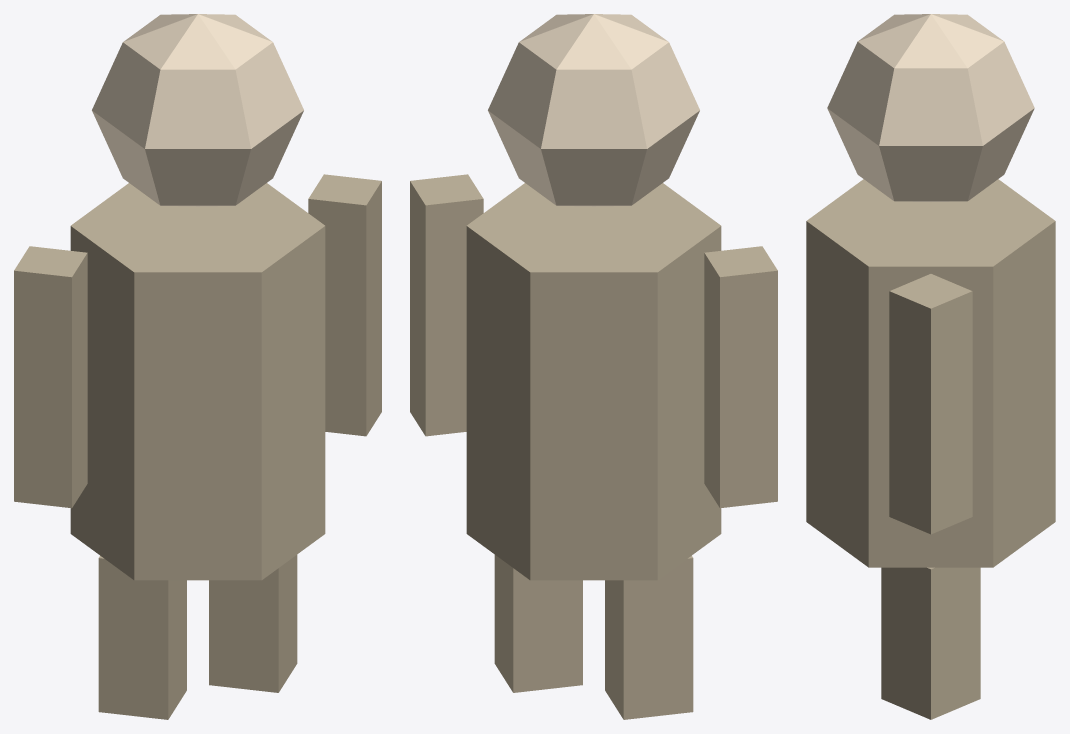
The model's file is fletcher.glb.
3 views of the same model, side by side, from view 1: azimuth 30°, elevation 25°; view 2: azimuth 150°, elevation 25°; view 3: azimuth 270°, elevation 25° (orthographic). The views are drawn at different scales.
Visible parts, largest first — view 1: fletcher_torso, fletcher_head, fletcher_al, fletcher_ar, fletcher_ll, fletcher_lr; view 2: fletcher_torso, fletcher_head, fletcher_al, fletcher_ar, fletcher_ll, fletcher_lr; view 3: fletcher_torso, fletcher_head, fletcher_ar, fletcher_lr.
Boxes of the visible parts, left/top/right/bottom form: fletcher_torso: left=70, top=183, right=325, bottom=580; fletcher_head: left=92, top=14, right=303, bottom=206; fletcher_al: left=14, top=246, right=87, bottom=508; fletcher_ar: left=308, top=174, right=381, bottom=436; fletcher_ll: left=98, top=555, right=186, bottom=719; fletcher_lr: left=209, top=555, right=297, bottom=692; fletcher_torso: left=466, top=183, right=721, bottom=580; fletcher_head: left=488, top=14, right=699, bottom=206; fletcher_al: left=704, top=246, right=777, bottom=508; fletcher_ar: left=410, top=174, right=483, bottom=436; fletcher_ll: left=605, top=555, right=693, bottom=719; fletcher_lr: left=494, top=555, right=582, bottom=692; fletcher_torso: left=806, top=179, right=1055, bottom=567; fletcher_head: left=827, top=14, right=1034, bottom=201; fletcher_ar: left=889, top=274, right=972, bottom=534; fletcher_lr: left=881, top=567, right=980, bottom=719.
Bounding box in the file's own units: 0.1 × 0.175 × 0.06.
